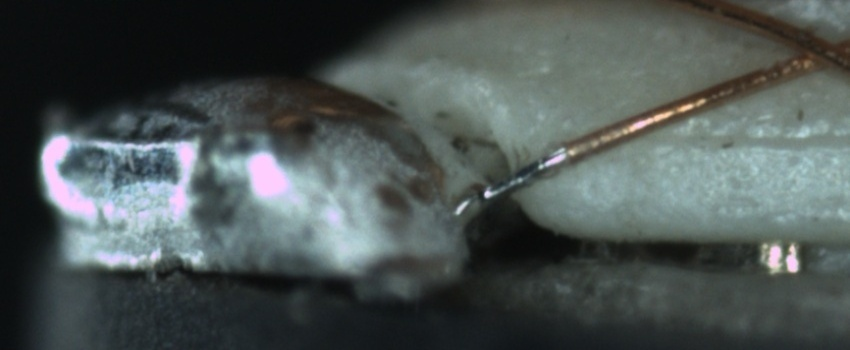CL: (769, 21, 848, 78)
DL: (633, 107, 850, 170)
TS: (465, 142, 571, 215)
TTCW: (472, 121, 605, 213)
